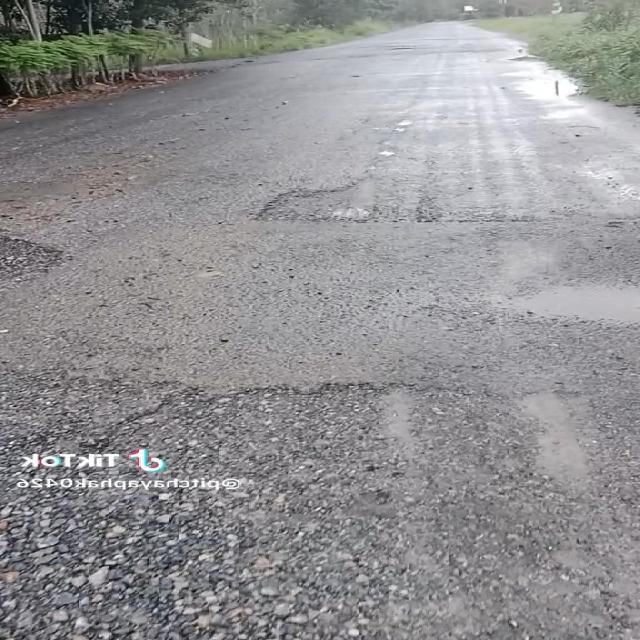Poth-hole: (340, 95, 467, 159)
